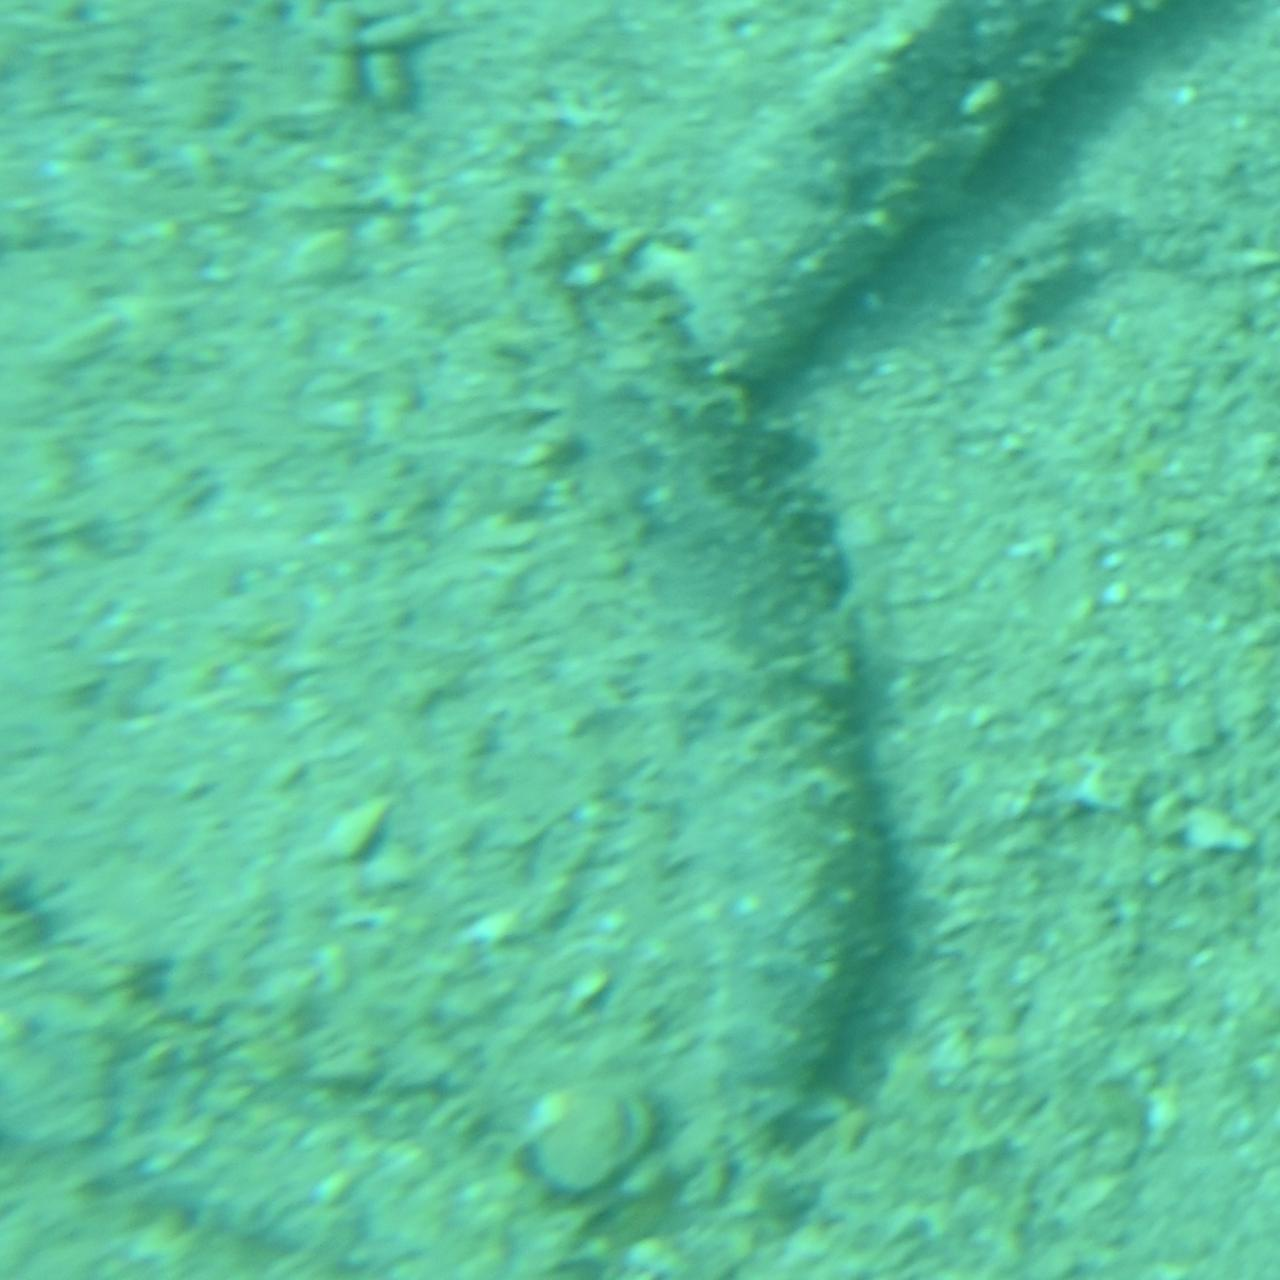Holothuria tubulosa: (454, 197, 920, 1155), (0, 884, 656, 1280), (652, 0, 1280, 393)
